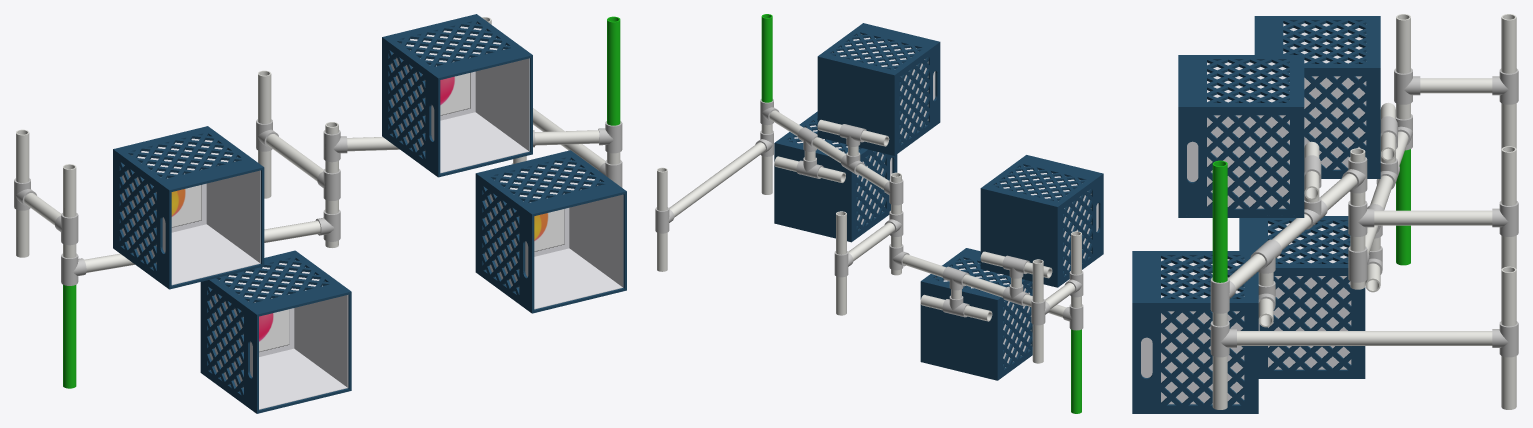
The model's file is Task03_Recon_Blood23_Fire14.obj.
3 renders of one model, left to right at view 1: azimuth 30°, elevation 25°; view 2: azimuth 150°, elevation 25°; view 3: azimuth 270°, elevation 25°, orthographic. The views are drawn at different scales.
Parts seen in each view (by area): view 1: bin4, bin1, bin3, bin2, lateral_bars, leg_middle, spine, leg_left, leg_right; view 2: bin3, bin1, bin2, bin4, lateral_bars, spine, leg_right, leg_middle, leg_left; view 3: bin3, bin4, bin1, bin2, lateral_bars, leg_right, leg_middle, leg_left, spine.
Part boxes in pixels (left/top/right/bottom): bin4: left=475, top=150, right=626, bottom=313; bin1: left=113, top=126, right=264, bottom=289; bin3: left=382, top=14, right=532, bottom=177; bin2: left=200, top=250, right=351, bottom=413; lateral_bars: left=61, top=16, right=622, bottom=388; leg_middle: left=256, top=70, right=340, bottom=200; spine: left=84, top=130, right=599, bottom=272; leg_left: left=14, top=129, right=78, bottom=257; leg_right: left=482, top=17, right=622, bottom=187; bin3: left=817, top=23, right=940, bottom=156; bin1: left=980, top=155, right=1103, bottom=287; bin2: left=920, top=248, right=1032, bottom=380; bin4: left=774, top=111, right=897, bottom=242; lateral_bars: left=760, top=14, right=1083, bottom=413; spine: left=769, top=110, right=1066, bottom=317; leg_right: left=655, top=130, right=773, bottom=271; leg_middle: left=834, top=210, right=903, bottom=315; leg_left: left=1031, top=259, right=1083, bottom=363; bin3: left=1178, top=55, right=1321, bottom=217; bin4: left=1132, top=251, right=1275, bottom=413; bin1: left=1254, top=16, right=1397, bottom=178; bin2: left=1239, top=216, right=1382, bottom=378; lateral_bars: left=1210, top=14, right=1412, bottom=409; leg_right: left=1210, top=266, right=1518, bottom=409; leg_middle: left=1348, top=146, right=1518, bottom=269; leg_left: left=1394, top=14, right=1518, bottom=148; spine: left=1228, top=131, right=1408, bottom=290.
Bounding box in the file's own units: 1.37 × 0.8712 × 0.8557.
9 materials, 4 textured.
